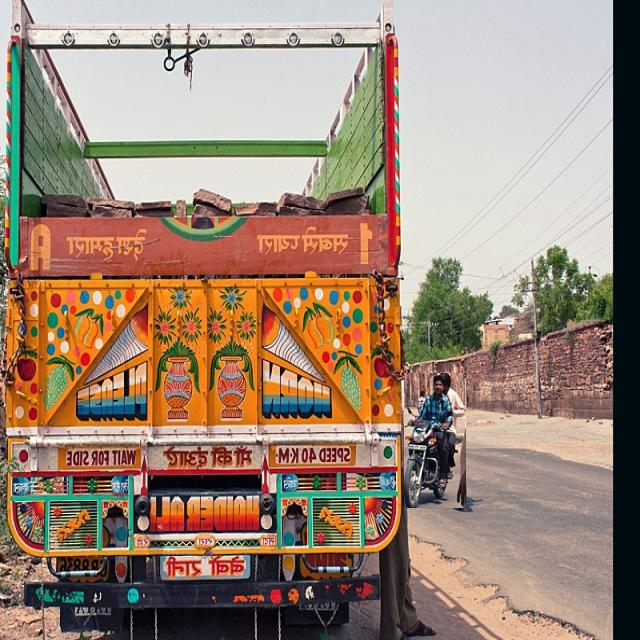motorcycle: (404, 374, 466, 508)
truck: (2, 0, 404, 630)
